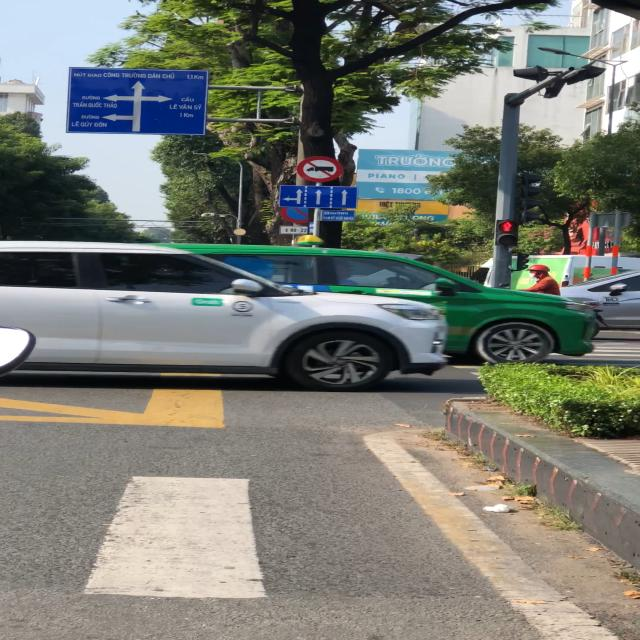Bien bao cam xe so-mi ro-mooc: (292, 154, 344, 186)
